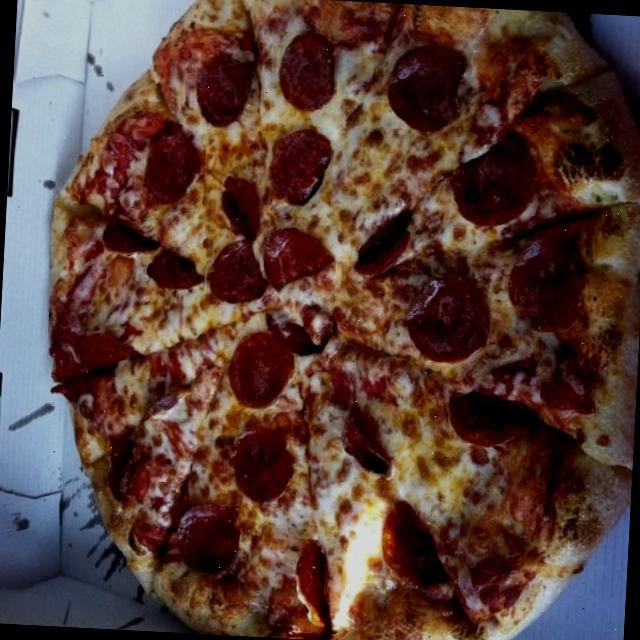pepperoni: (446, 123, 543, 230), (370, 498, 460, 604), (377, 45, 472, 134), (403, 274, 491, 364), (437, 381, 540, 456), (504, 244, 586, 332), (190, 40, 262, 132), (136, 122, 207, 214), (344, 196, 416, 284), (262, 215, 338, 298), (260, 124, 334, 208), (224, 329, 298, 413), (223, 427, 298, 508), (332, 401, 402, 485), (284, 539, 342, 634), (271, 31, 339, 110), (172, 503, 240, 580), (64, 327, 150, 379), (206, 233, 266, 307), (212, 172, 264, 243), (144, 245, 206, 294), (99, 218, 161, 256)
pizza: (50, 0, 640, 640)
